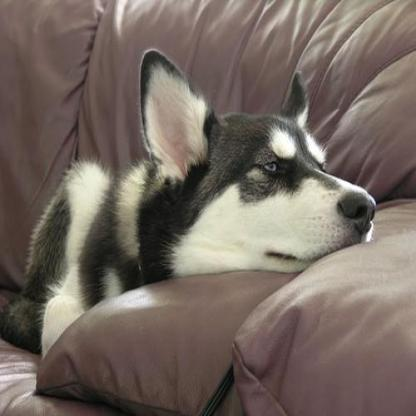malamute: (0, 44, 378, 358)
